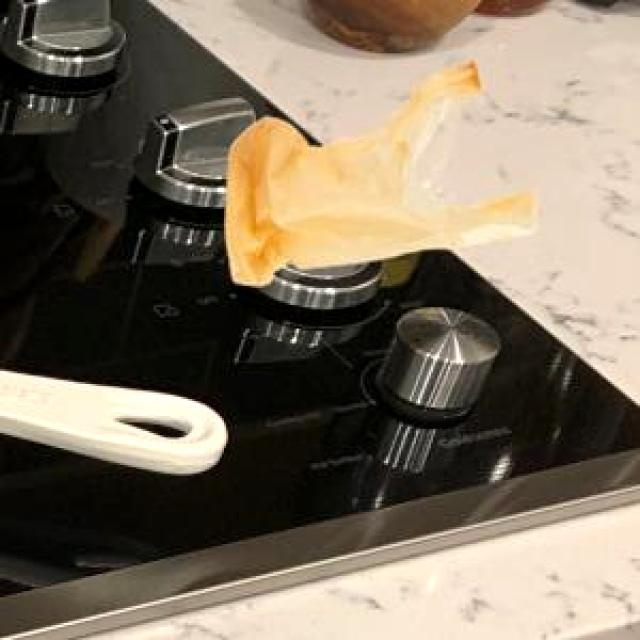Plastic_Bag: (222, 59, 534, 282)
